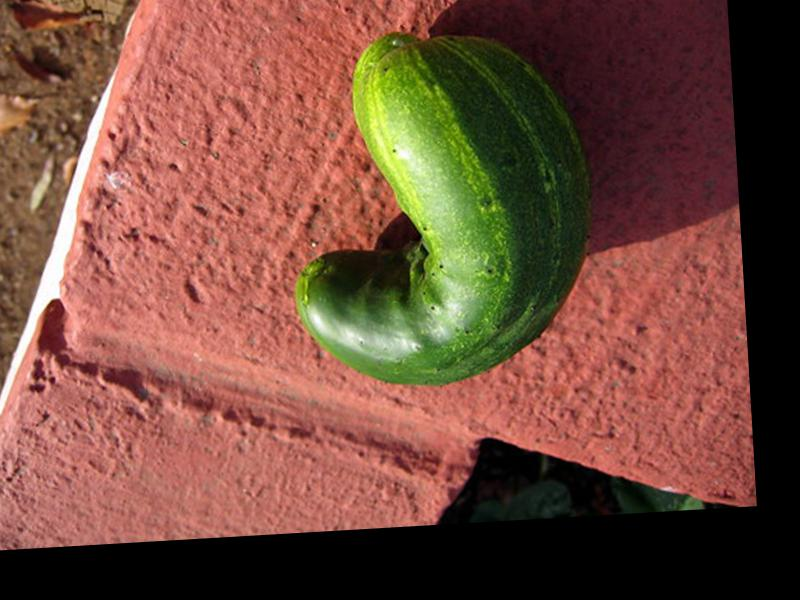Cucumber: (277, 23, 599, 393)
